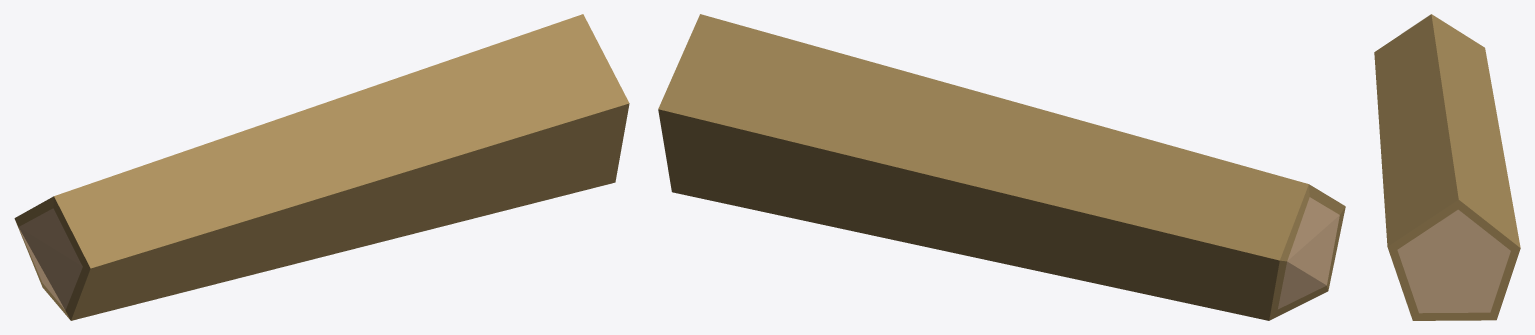
File: Oak_Log_04.fbx
3 renders of one model, left to right at view 1: azimuth 30°, elevation 25°; view 2: azimuth 150°, elevation 25°; view 3: azimuth 270°, elevation 25°, orthographic. The views are drawn at different scales.
Parts seen in each view (by area): view 1: Oak_Log_04; view 2: Oak_Log_04; view 3: Oak_Log_04.
Boxes of the visible parts, x1,y1,x2,y2 form: Oak_Log_04: [14, 14, 629, 320]; Oak_Log_04: [658, 14, 1345, 320]; Oak_Log_04: [1374, 14, 1520, 320].
Size of the model in its own units: 158 by 40.35 by 44.64.
